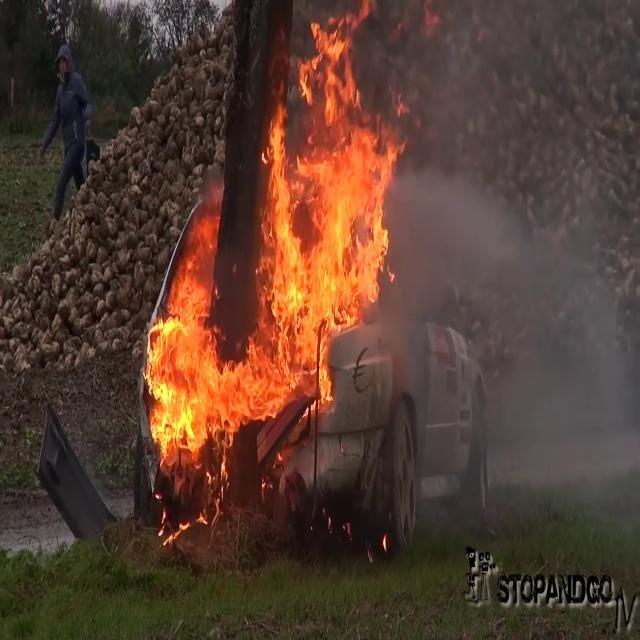Fire: (250, 8, 408, 390), (141, 198, 237, 474)
Smoke: (396, 146, 640, 530)
